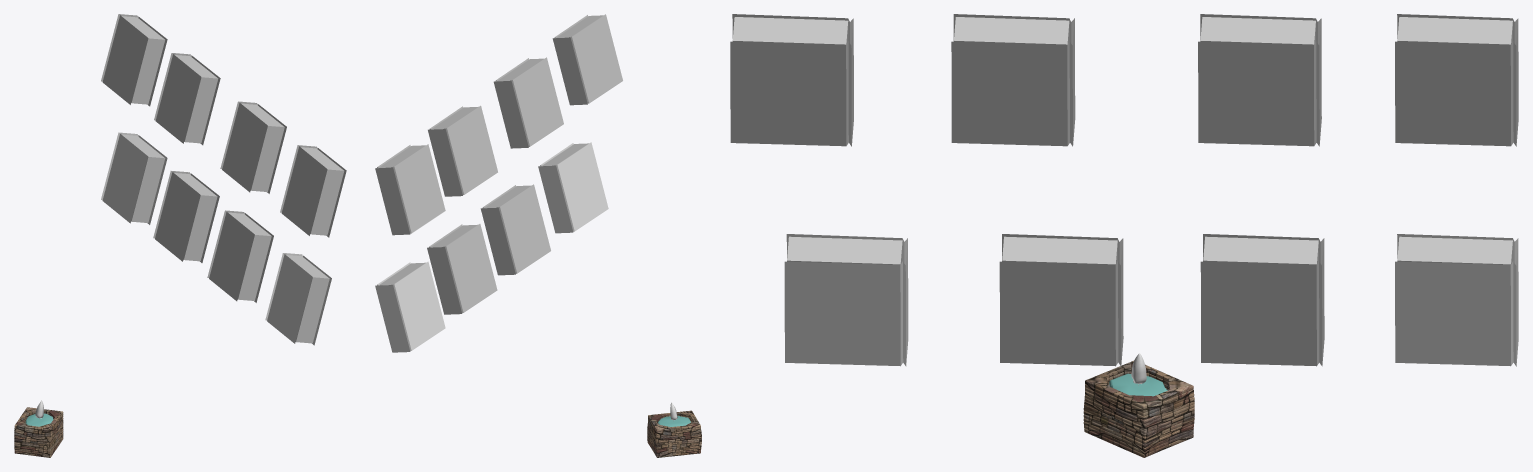
Rendered from Bücher und Kerze.FBX.
3 views of the same model, side by side, from view 1: azimuth 30°, elevation 25°; view 2: azimuth 150°, elevation 25°; view 3: azimuth 270°, elevation 25° (orthographic). The views are drawn at different scales.
Visible parts, largest first — view 1: Line010, Line012, Line014, Line015, Line011, Line009, Line008, Line013, the candle stone, Box008, Box006, Box009 (+5 smaller); view 2: Line013, Line014, Line008, Line009, Line011, Line012, Line015, Line010, the candle stone, Box009, Box010, Box006 (+5 smaller); view 3: Line014, Line010, Line009, Line015, Line008, Line013, Line012, Line011, the candle stone, Box013, Box008, Box012 (+6 smaller).
Part boxes in pixels (box(x1,y1,x2,y2)): Line010: box(265, 253, 331, 345); Line012: box(101, 14, 167, 106); Line014: box(220, 101, 286, 193); Line015: box(280, 145, 346, 237); Line011: box(101, 132, 167, 224); Line009: box(207, 210, 273, 302); Line008: box(153, 171, 219, 262); Line013: box(154, 53, 220, 145); the candle stone: box(14, 407, 63, 457); Box008: box(286, 255, 329, 343); Box006: box(174, 173, 217, 261); Box009: box(122, 134, 165, 222); Line013: box(428, 105, 497, 196); Line014: box(493, 57, 563, 148); Line008: box(427, 224, 497, 314); Line009: box(480, 184, 550, 275); Line011: box(375, 261, 445, 352); Line012: box(375, 144, 445, 235); Line015: box(552, 14, 622, 105); Line010: box(538, 142, 608, 233); the candle stone: box(647, 410, 701, 457); Box009: box(379, 262, 425, 285); Box010: box(379, 145, 425, 168); Box006: box(430, 224, 477, 247); Line014: box(951, 14, 1075, 146); Line010: box(784, 234, 908, 366); Line009: box(999, 234, 1123, 366); Line015: box(730, 14, 853, 146); Line008: box(1200, 234, 1324, 366); Line013: box(1198, 14, 1321, 146); Line012: box(1395, 14, 1518, 146); Line011: box(1395, 234, 1518, 366); the candle stone: box(1083, 360, 1194, 457); Box013: box(732, 17, 848, 44); Box008: box(787, 236, 902, 264); Box012: box(954, 17, 1069, 44).
Size of the model in its own units: 1183 by 1568 by 1921.
